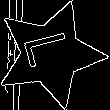L_E: (21, 33, 80, 76)
